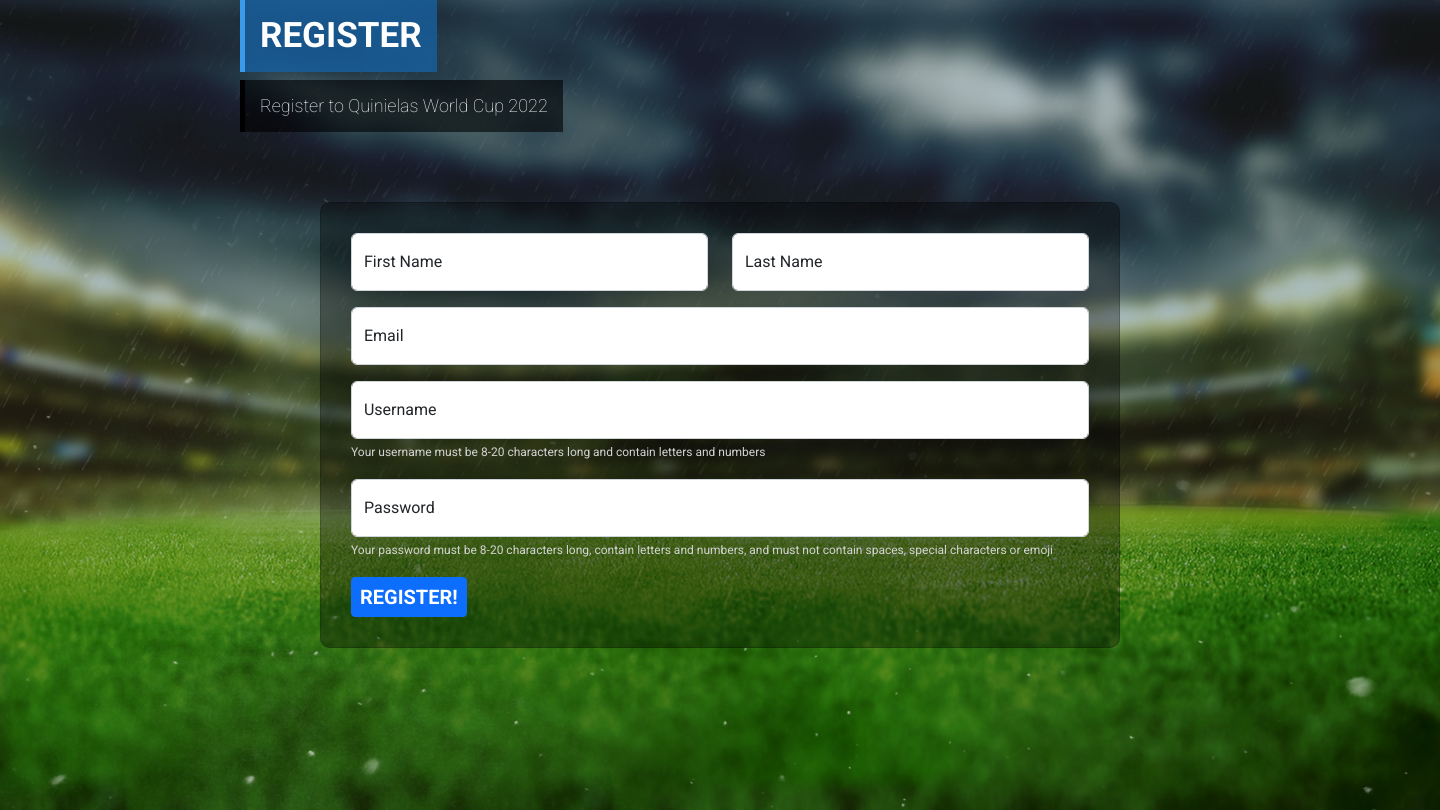
Test: Additional Test › should show a required field warning for each empty input field
The image size is (1440, 810).
Click the button. click: (409, 597)
box: [351,577,467,617]
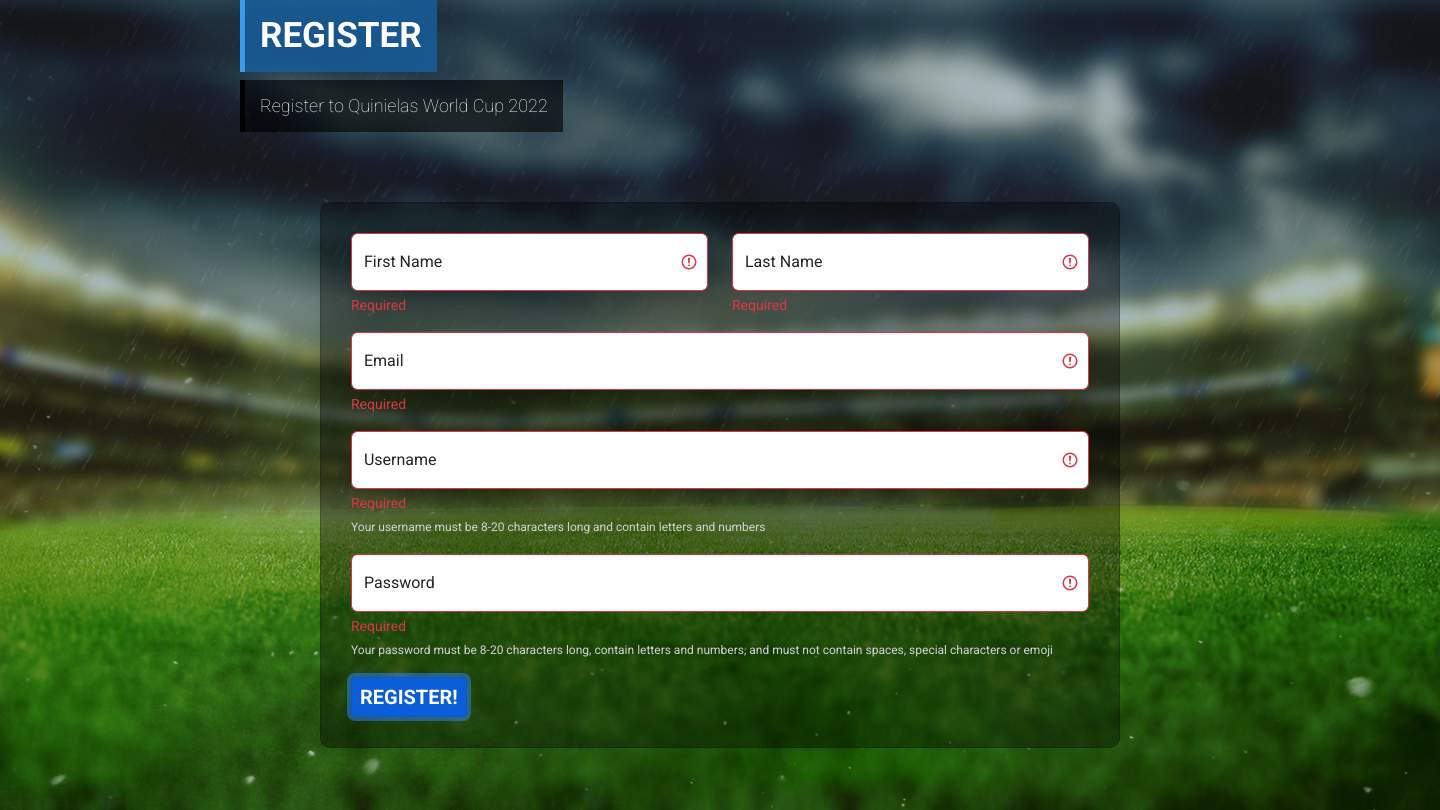
Now the text "Required" below "First Name" is shown, box [351,297,406,313]
